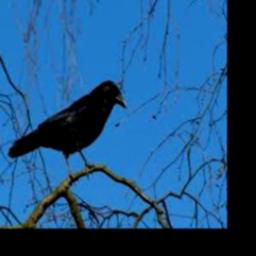Crow: (8, 79, 127, 179)
